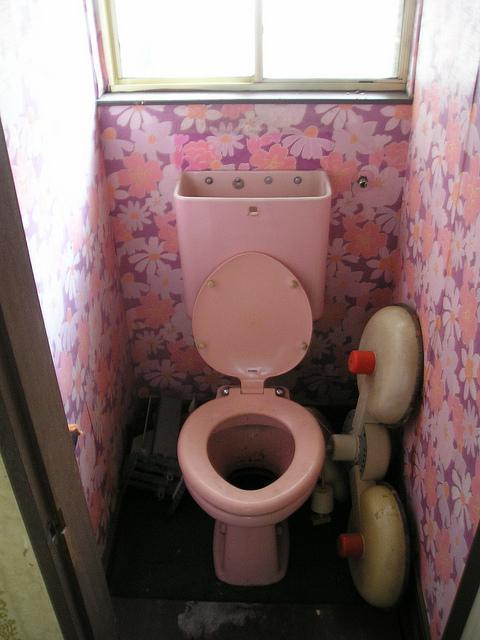Sanitario: (173, 177, 358, 599)
